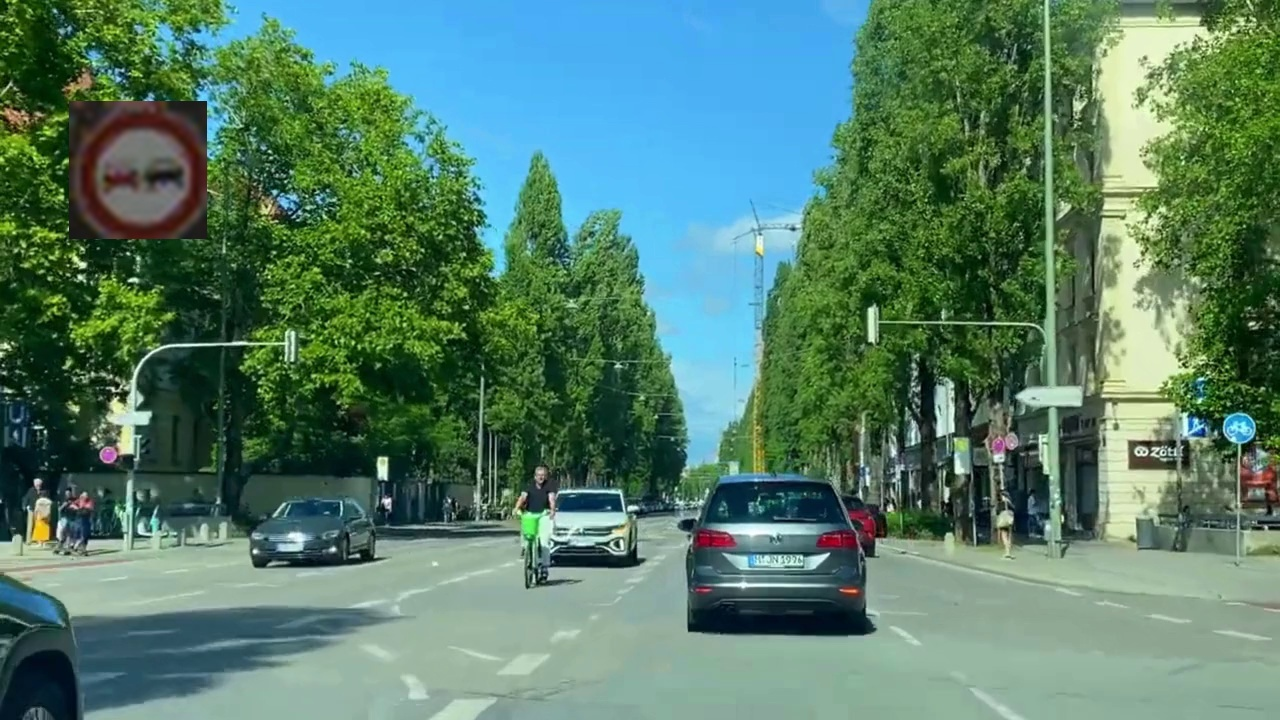No passing: (69, 101, 207, 239)
